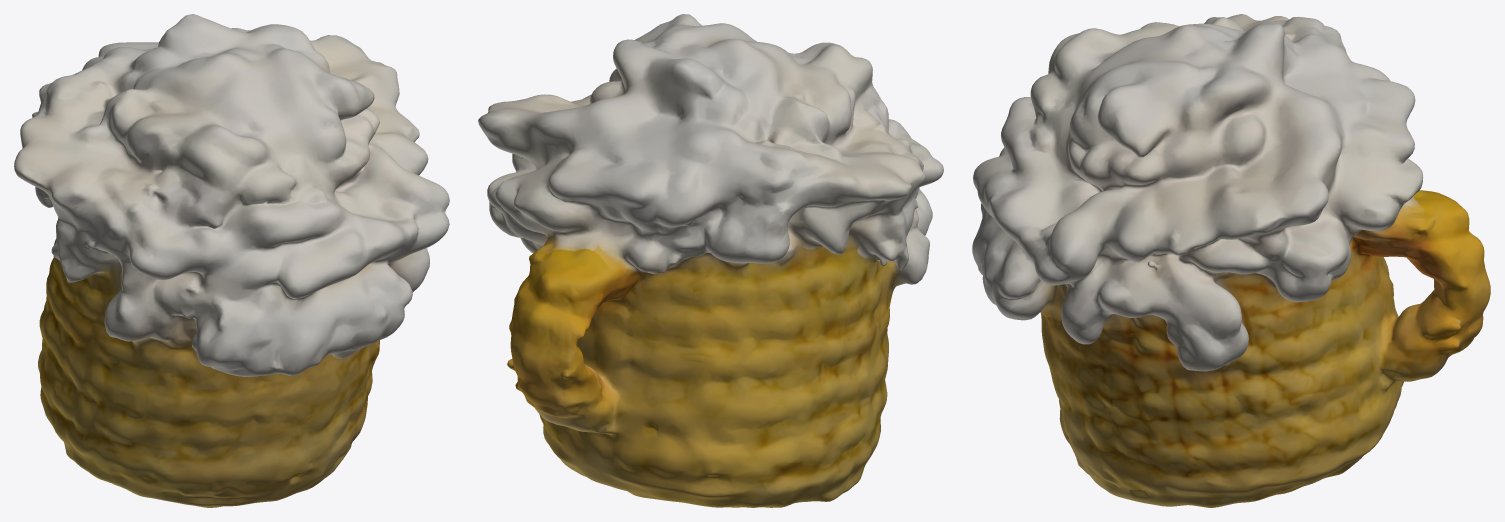
The model's file is beerMug.glb.
3 views of the same model, side by side, from view 1: azimuth 30°, elevation 25°; view 2: azimuth 150°, elevation 25°; view 3: azimuth 270°, elevation 25° (orthographic). The views are drawn at different scales.
Parts seen in each view (by area): view 1: tripo_node_fec4fa0b-ff52-4173-a898-2788482d3e0a; view 2: tripo_node_fec4fa0b-ff52-4173-a898-2788482d3e0a; view 3: tripo_node_fec4fa0b-ff52-4173-a898-2788482d3e0a.
Part boxes in pixels (bbox=[...]): tripo_node_fec4fa0b-ff52-4173-a898-2788482d3e0a: bbox=[14, 14, 449, 507]; tripo_node_fec4fa0b-ff52-4173-a898-2788482d3e0a: bbox=[478, 14, 943, 507]; tripo_node_fec4fa0b-ff52-4173-a898-2788482d3e0a: bbox=[972, 14, 1490, 507].
Size of the model in its own units: 0.919 by 0.9628 by 1.
1 material, 1 textured.
